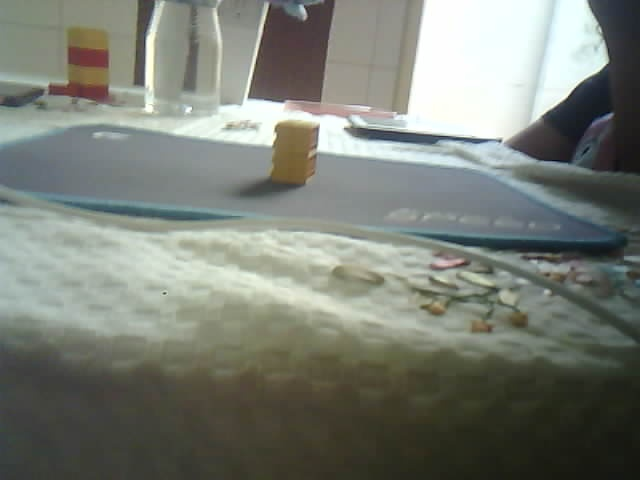lego: (65, 26, 110, 102), (270, 119, 319, 187), (47, 82, 69, 96)
